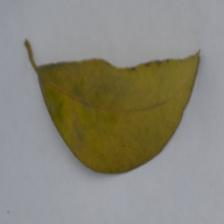greening: (50, 80, 187, 176)
